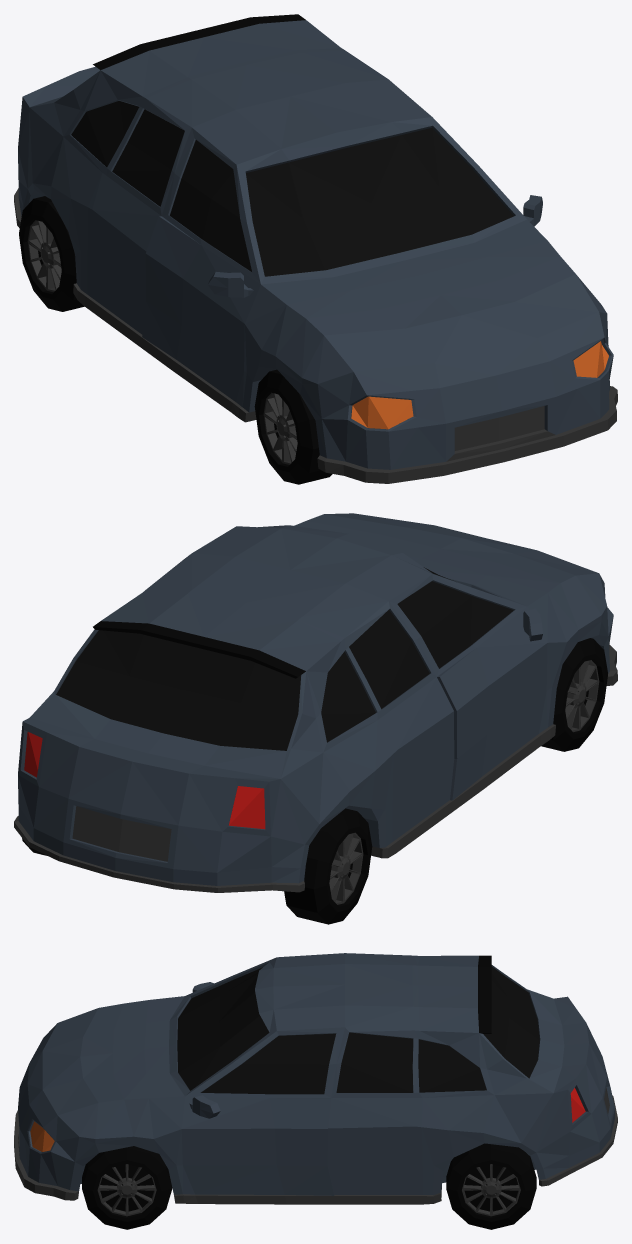
Rendered from NormalCar2.obj.
3 renders of one model, top to bottom at view 1: azimuth 30°, elevation 25°; view 2: azimuth 150°, elevation 25°; view 3: azimuth 270°, elevation 25°, orthographic. The views are drawn at different scales.
Visible parts, largest first — view 1: NormalCar2, NormalCar2_FrontRightWheel, NormalCar2_BackWheels; view 2: NormalCar2, NormalCar2_BackWheels, NormalCar2_FrontRightWheel; view 3: NormalCar2, NormalCar2_BackWheels, NormalCar2_FrontLeftWheel.
Boxes of the visible parts, bbox=[...] form: NormalCar2: bbox=[14, 14, 617, 483]; NormalCar2_FrontRightWheel: bbox=[254, 369, 332, 484]; NormalCar2_BackWheels: bbox=[19, 196, 84, 311]; NormalCar2: bbox=[14, 513, 617, 892]; NormalCar2_BackWheels: bbox=[22, 808, 372, 924]; NormalCar2_FrontRightWheel: bbox=[541, 638, 607, 751]; NormalCar2: bbox=[14, 953, 617, 1204]; NormalCar2_BackWheels: bbox=[446, 1143, 536, 1229]; NormalCar2_FrontLeftWheel: bbox=[82, 1146, 172, 1229].
Bounding box in the file's own units: 1.64 × 1.15 × 3.31.
